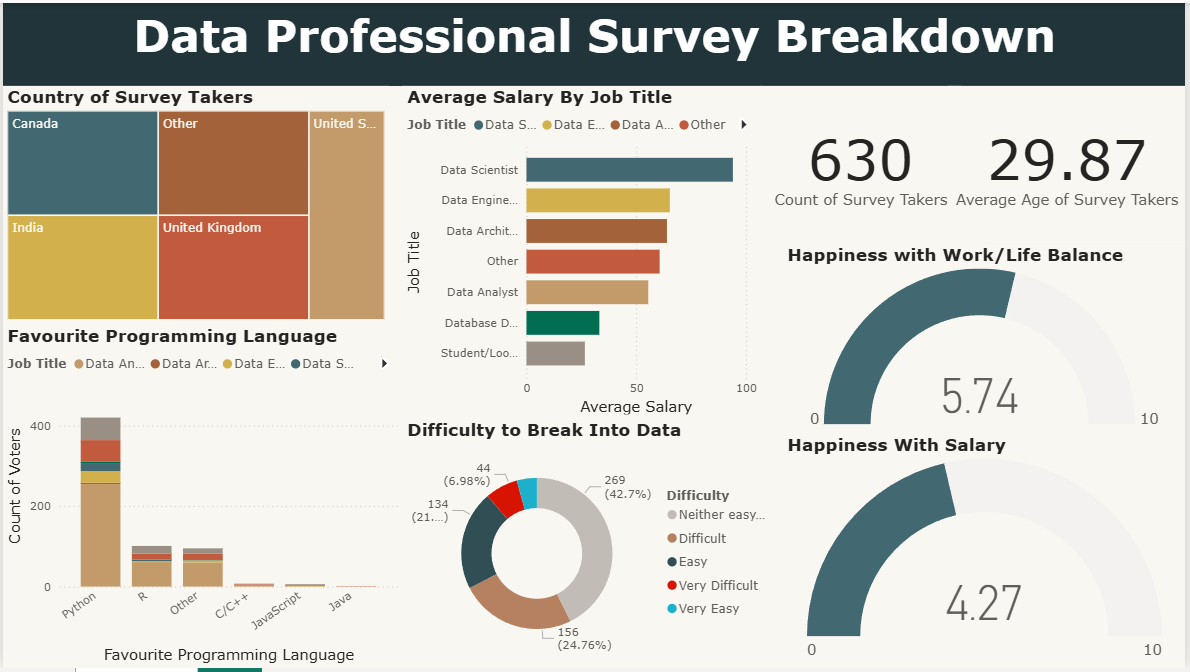

The page's visual inventory and layout, read from the dashboard file:
{"tool":"powerbi","page":{"name":"Page 1","canvas":[1280,720],"ordinal":0},"visuals":[{"type":"textbox","box":[0,0,1281.3,89.7],"z":0},{"type":"card","fields":{"Values":["CountNonNull(Data Professional Survey.Unique ID)"]},"box":[821.7,89.7,214.7,170.7],"z":1000},{"type":"card","fields":{"Values":["Avg(Data Professional Survey.Q10 - Current Age)"]},"box":[1024,89.7,256.9,170.7],"z":2000},{"type":"barChart","title":"Average Salary By Job Title","fields":{"Category":["Data Professional Survey.Q1 - Which Title Best Fits your Current Role?.1"],"Y":["Avg(Data Professional Survey.Average Salary)"],"Series":["Data Professional Survey.Q1 - Which Title Best Fits your Current Role?.1"]},"box":[432.8,89.7,388.8,360.7],"z":3000},{"type":"columnChart","title":"Favourite Programming Language","fields":{"Category":["Data Professional Survey.Q5 - Favorite Programming Language.1"],"Y":["CountNonNull(Data Professional Survey.Unique ID)"],"Series":["Data Professional Survey.Q1 - Which Title Best Fits your Current Role?.1"]},"box":[0,348.1,432.5,371.5],"z":4000},{"type":"treemap","title":"Country of Survey Takers","fields":{"Group":["Data Professional Survey.Q11 - Which Country do you live in?.1"],"Values":["Count(Data Professional Survey.Q11 - Which Country do you live in?.1)"]},"box":[0,89.7,418.1,258.4],"z":5000},{"type":"gauge","title":"Happiness with Work/Life Balance","fields":{"Y":["Avg(Data Professional Survey.Q6 - How Happy are you in your Current Position with the following? (Work/Life Balance))"],"MinValue":["Min(Data Professional Survey.Q6 - How Happy are you in your Current Position with the following? (Work/Life Balance))1"],"MaxValue":["Max(Data Professional Survey.Q6 - How Happy are you in your Current Position with the following? (Work/Life Balance))2"]},"box":[844.5,260.4,436.3,205.9],"z":6000},{"type":"gauge","title":"Happiness With Salary","fields":{"Y":["Avg(Data Professional Survey.Q6 - How Happy are you in your Current Position with the following? (Salary))"],"MinValue":["Min(Data Professional Survey.Q6 - How Happy are you in your Current Position with the following? (Salary))"],"MaxValue":["Max(Data Professional Survey.Q6 - How Happy are you in your Current Position with the following? (Salary))"]},"box":[844.5,466.3,436.3,253.4],"z":7000},{"type":"donutChart","title":"Difficulty to Break Into Data","fields":{"Category":["Data Professional Survey.Q7 - How difficult was it for you to break into Data?"],"Y":["CountNonNull(Data Professional Survey.Q7 - How difficult was it for you to break into Data?)"]},"box":[432.8,450.4,411.7,269.2],"z":8000}]}

Visuals, with their boxes in screenshot pixels (x1, y1, x2, y2), scaled from the page's 1280x720 canvas onto the 1190x672 screenshot:
textbox: [0, 0, 1189, 84]
card - CountNonNull(Data Professional Survey.Unique ID): [764, 84, 964, 243]
card - Avg(Data Professional Survey.Q10 - Current Age): [952, 84, 1189, 243]
"Average Salary By Job Title" barChart: [402, 84, 764, 420]
"Favourite Programming Language" columnChart: [0, 325, 402, 671]
"Country of Survey Takers" treemap: [0, 84, 389, 325]
"Happiness with Work/Life Balance" gauge: [785, 243, 1189, 435]
"Happiness With Salary" gauge: [785, 435, 1189, 671]
"Difficulty to Break Into Data" donutChart: [402, 420, 785, 671]
